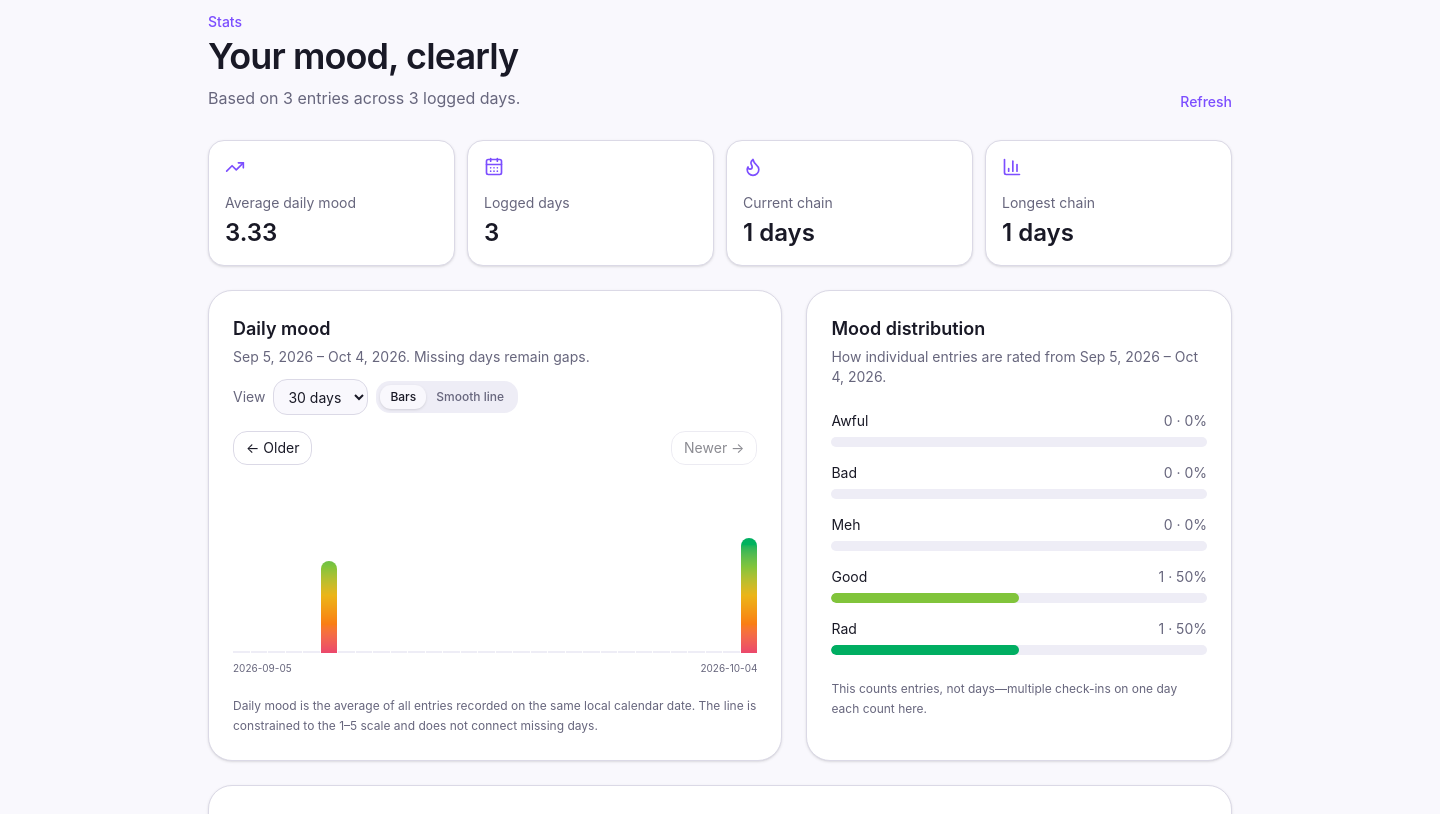
Test: StatsPage ranges › offers 30, 60, and 90 days and applies the range to distribution
Expected: the text "0 · 0%" in the row of "Awful" is shown, [1164, 411, 1207, 431]
Select "60 days" in the dropdown named "Daily mood range" at [321, 397], box [273, 379, 368, 415]
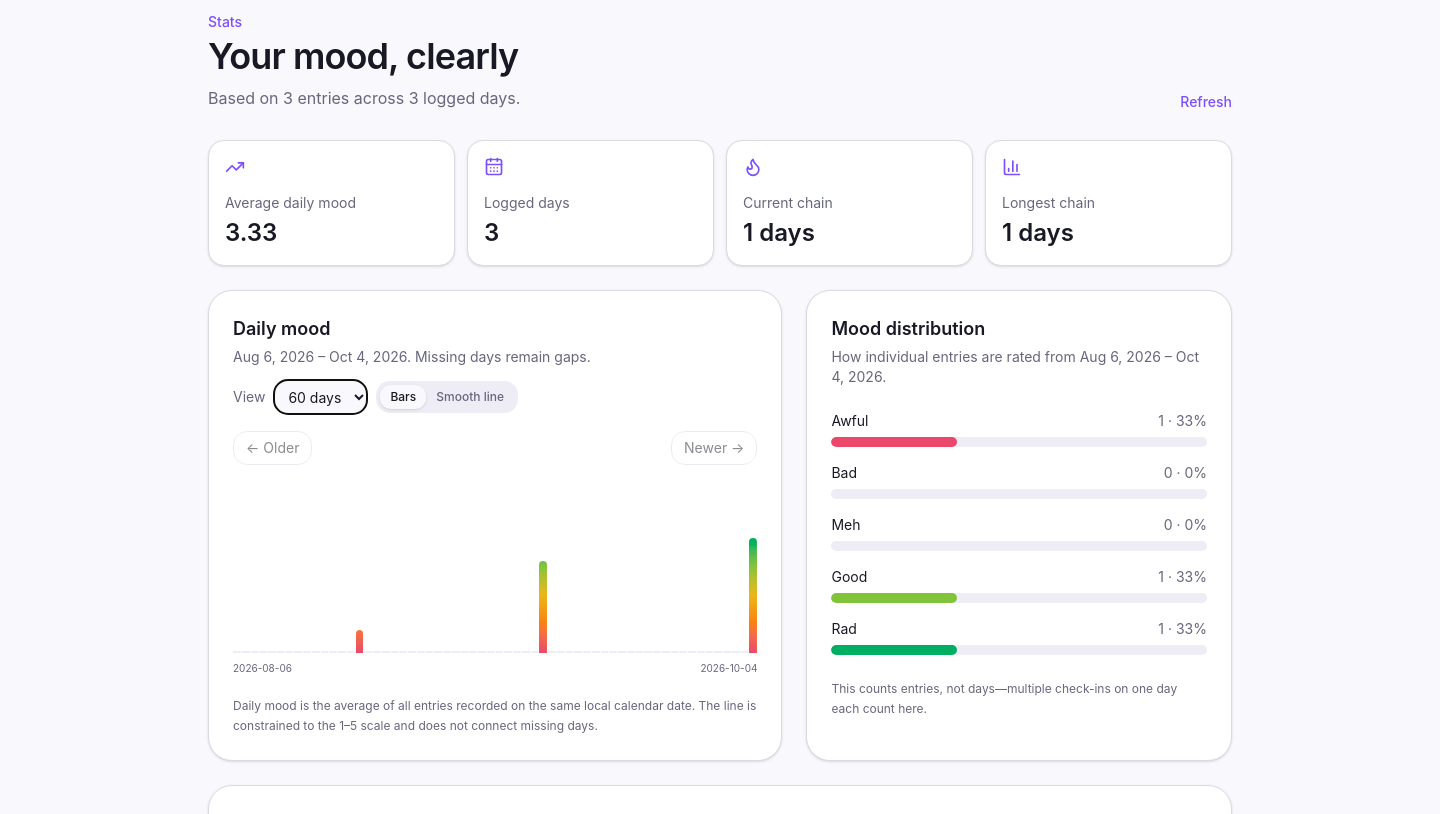
Expected: the text "1 · 33%" in the row of "Awful" is shown, [1158, 411, 1207, 431]
